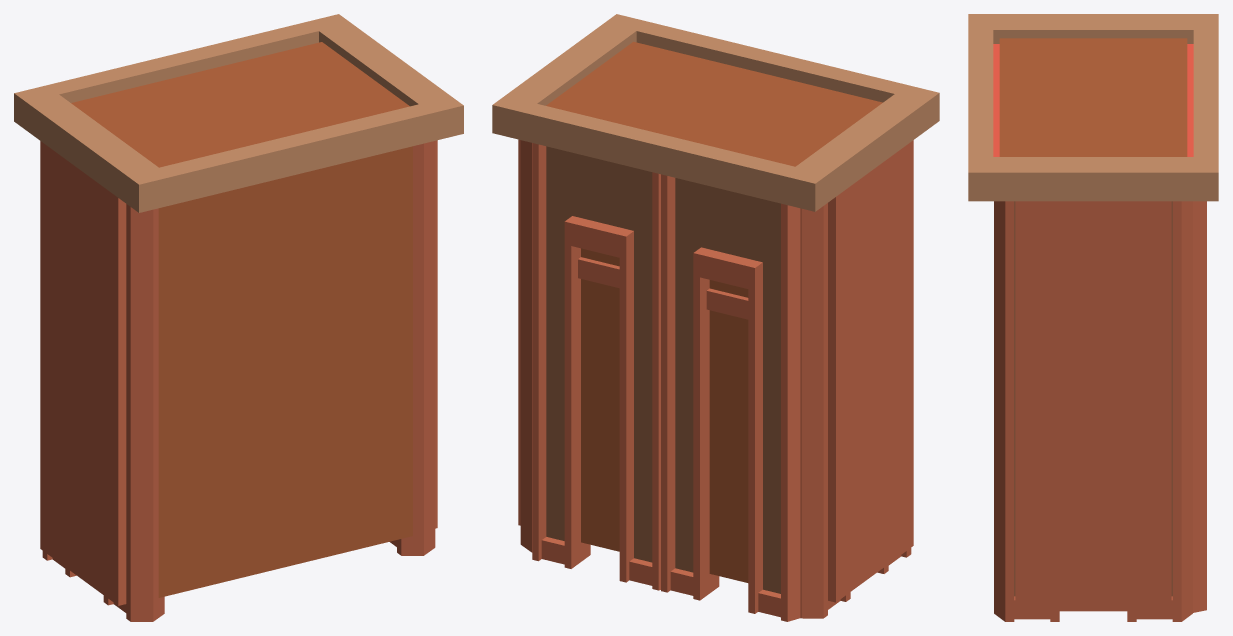
Rendered from Schrank.fbx.
3 views of the same model, side by side, from view 1: azimuth 30°, elevation 25°; view 2: azimuth 150°, elevation 25°; view 3: azimuth 270°, elevation 25° (orthographic).
Parts seen in each view (by area): view 1: mergedBlocks; view 2: mergedBlocks; view 3: mergedBlocks.
Part boxes in pixels (bbox=[...]): mergedBlocks: bbox=[14, 14, 463, 621]; mergedBlocks: bbox=[492, 14, 939, 621]; mergedBlocks: bbox=[968, 14, 1218, 621].
Size of the model in its own units: 12 by 16 by 8.
